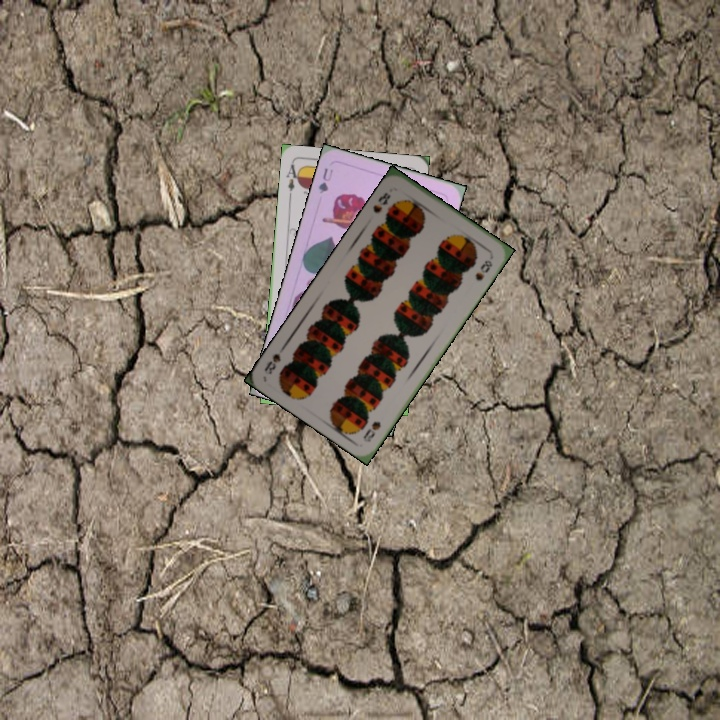EA: (282, 160, 303, 200)
GU: (314, 164, 336, 196)
S8: (369, 188, 393, 216), (359, 417, 383, 445)
